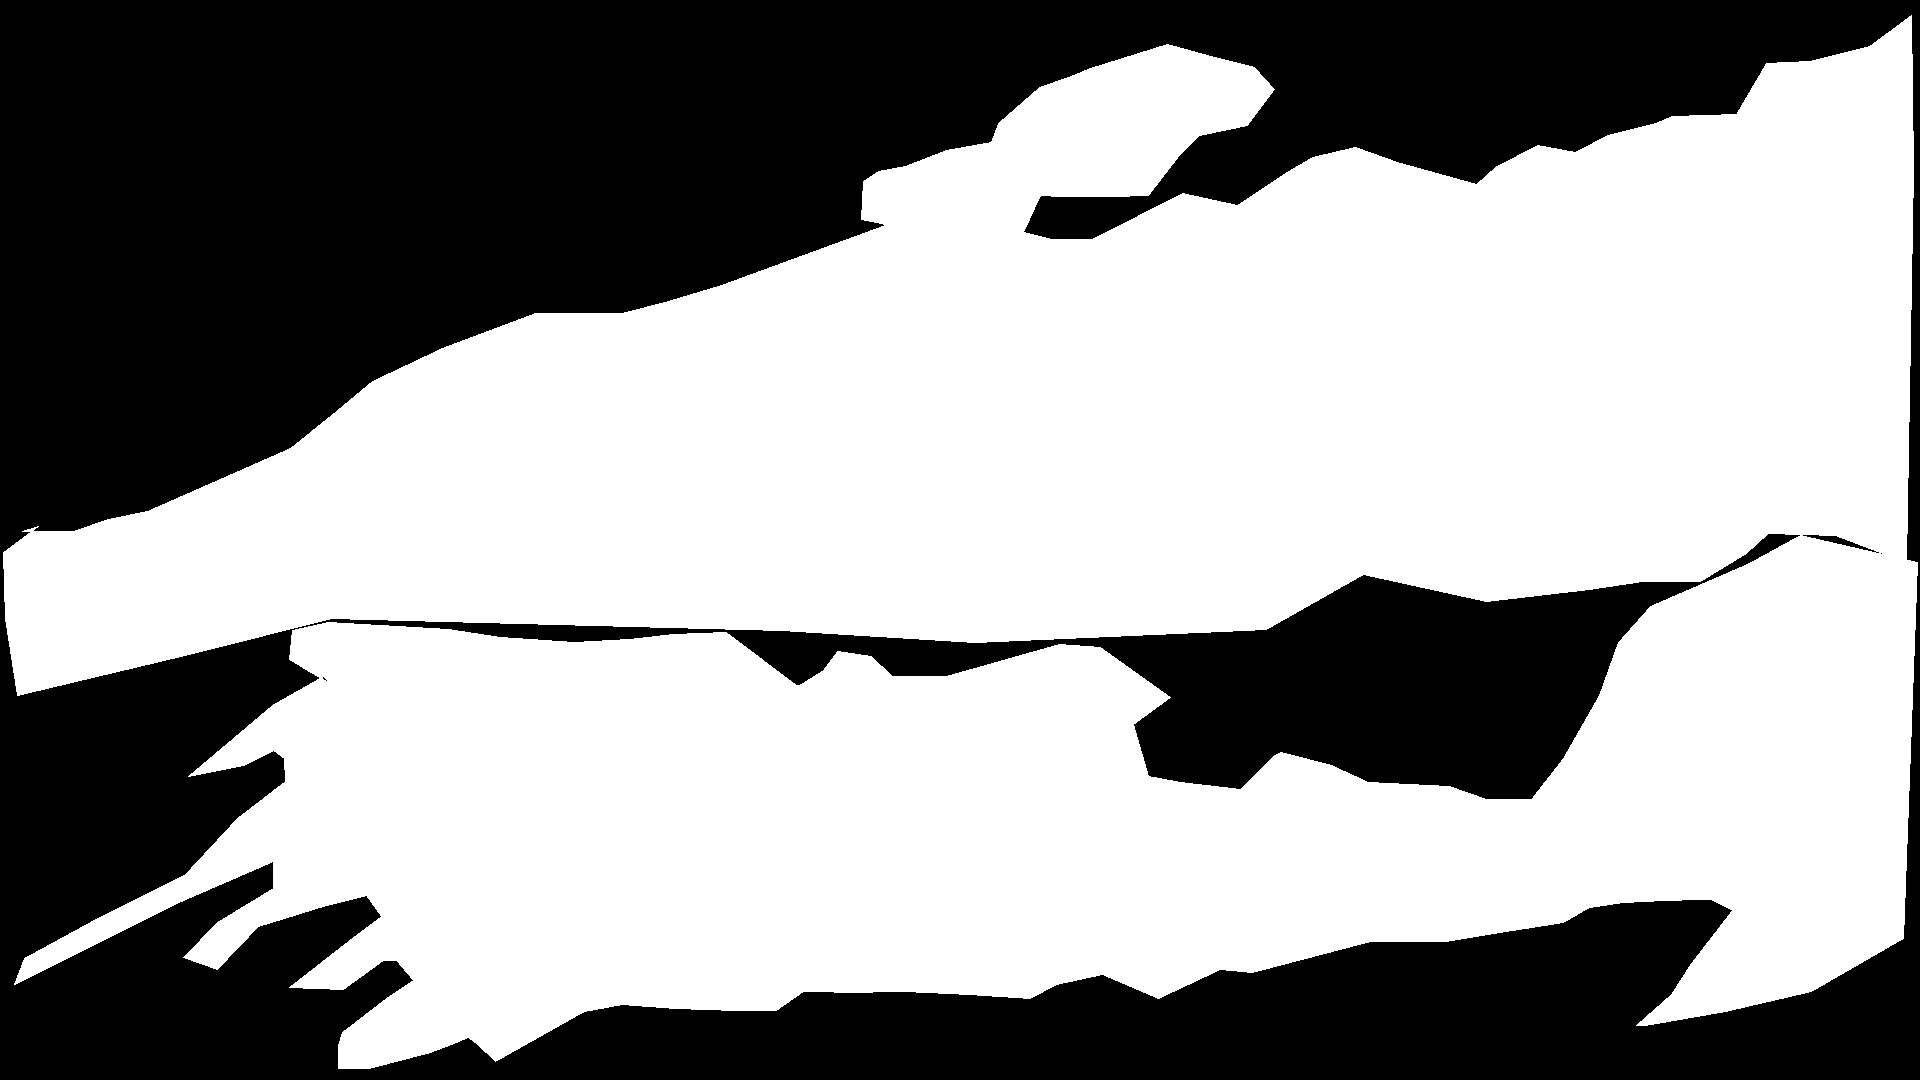Fire: (7, 76, 1907, 636), (258, 688, 1896, 1014)
